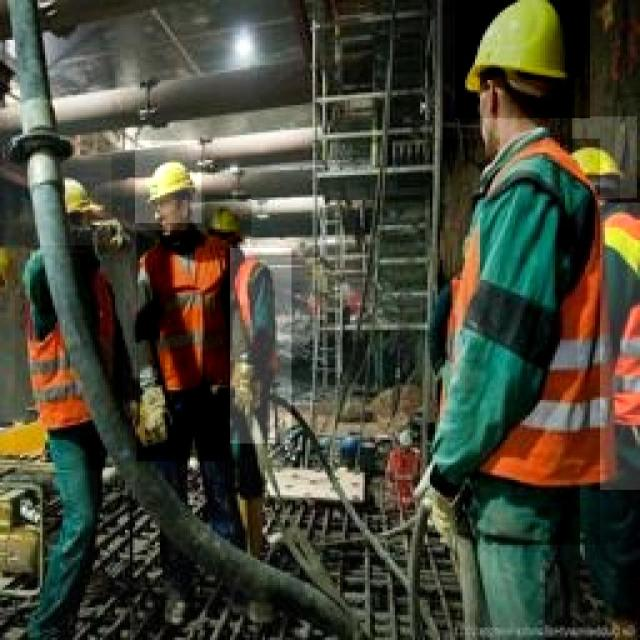Helmet: (455, 0, 590, 118), (34, 157, 112, 246), (135, 141, 201, 223), (572, 116, 637, 198), (205, 196, 251, 246)
Safety Vest: (430, 139, 600, 545), (15, 254, 123, 471), (136, 230, 230, 462), (590, 202, 640, 490), (225, 248, 291, 444)
